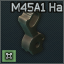M45A1 hammer: (0, 0, 64, 64)
